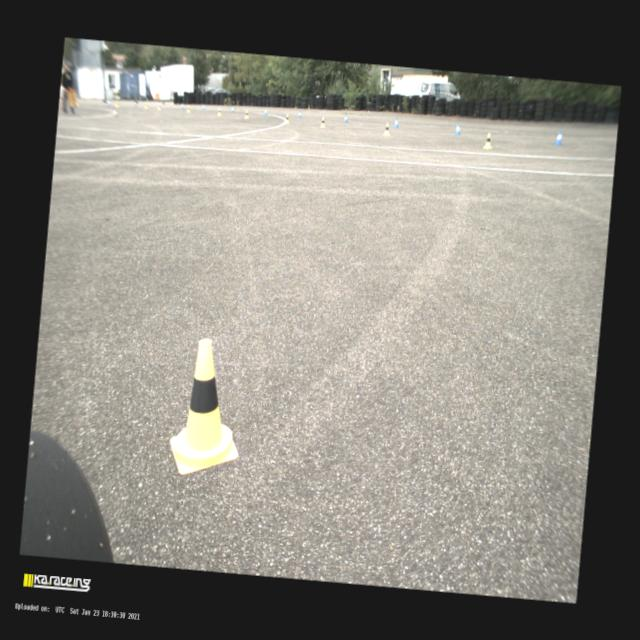blue_cone: (554, 130, 562, 145), (454, 122, 461, 134), (393, 118, 399, 128), (342, 114, 348, 122), (262, 108, 268, 116), (297, 110, 302, 118), (132, 100, 138, 106), (201, 103, 205, 111), (105, 99, 110, 105), (230, 106, 234, 112), (180, 102, 183, 109)
yellow_cone: (166, 336, 248, 479), (483, 132, 493, 150), (382, 122, 391, 136), (320, 116, 326, 128), (285, 113, 290, 124), (216, 107, 222, 116), (74, 98, 80, 106), (244, 110, 249, 119), (156, 102, 161, 110), (143, 101, 148, 109), (114, 100, 118, 108), (187, 104, 190, 112)
